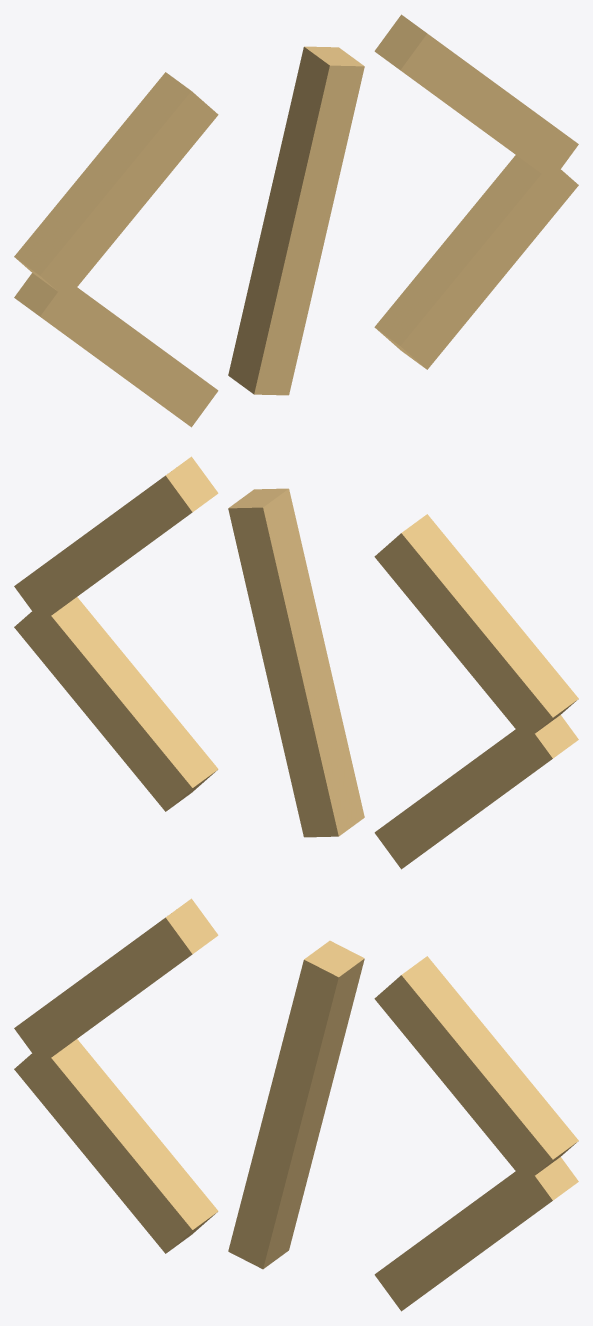
The model's file is web-code.glb.
3 renders of one model, top to bottom at view 1: azimuth 30°, elevation 25°; view 2: azimuth 150°, elevation 25°; view 3: azimuth 330°, elevation 25°, orthographic.
Visible parts, largest first — view 1: Forma Monogram; view 2: Forma Monogram; view 3: Forma Monogram.
Part boxes in pixels (x1,y1,x2,y2): Forma Monogram: (14, 14, 578, 427); Forma Monogram: (14, 456, 578, 869); Forma Monogram: (14, 898, 578, 1311).
Size of the model in its own units: 2.99 by 1.78 by 0.25.
